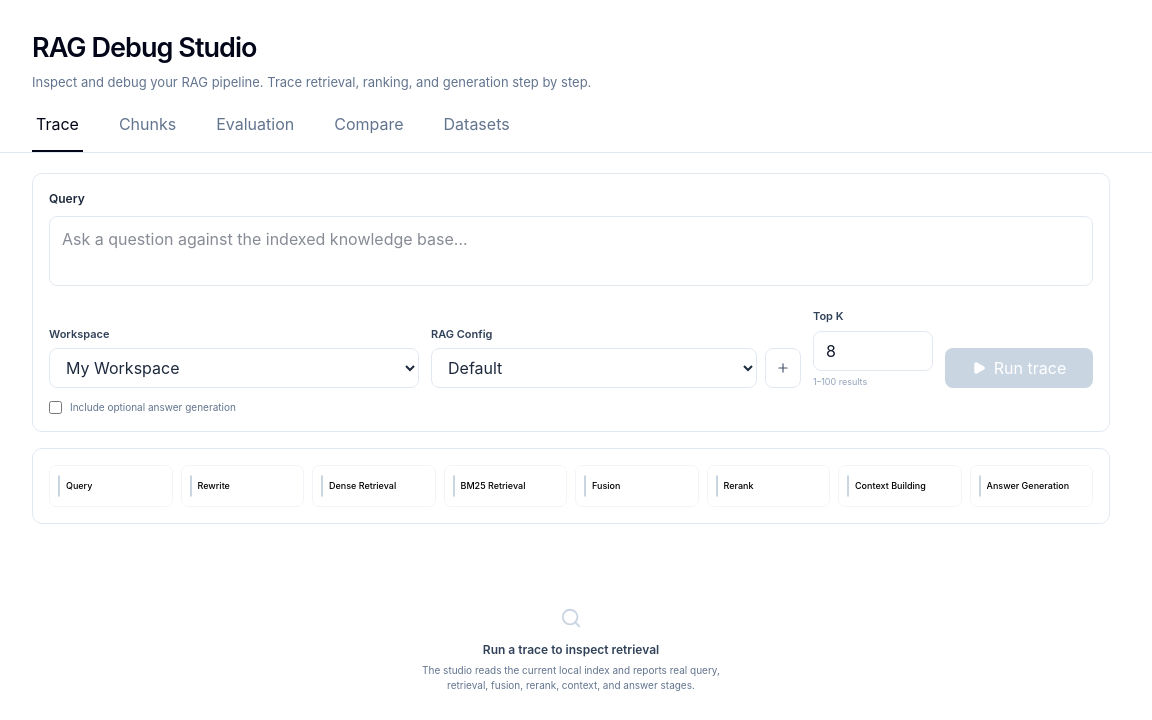
RagDebugStudio › shows evaluation metrics
The image size is (1152, 720).
Click the button "Evaluation" at coordinates (255, 132), box [212,112,298,152]
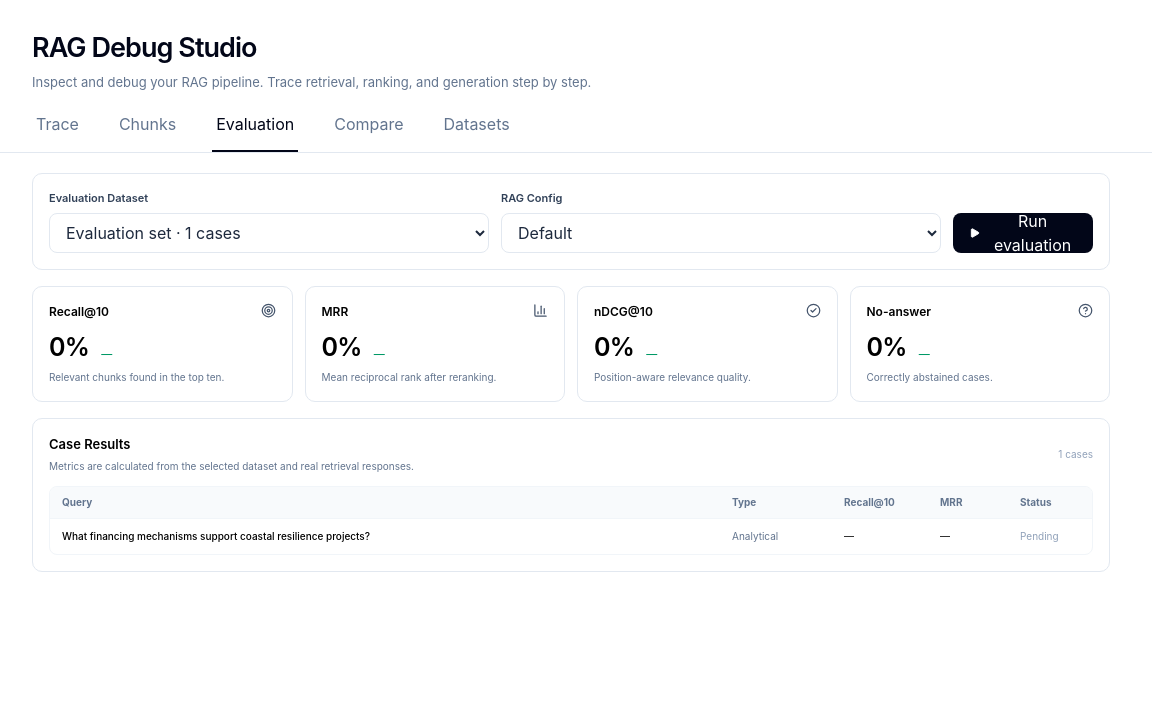
Check: the heading "Recall@10" is shown, box [49,302,109,320]
Check: the heading "Case Results" is shown, box [49,436,130,452]
